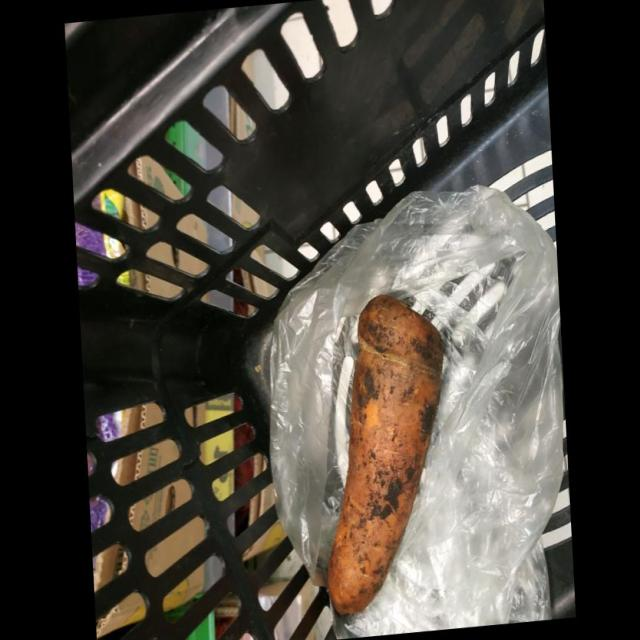Carrot: (327, 294, 442, 614)
